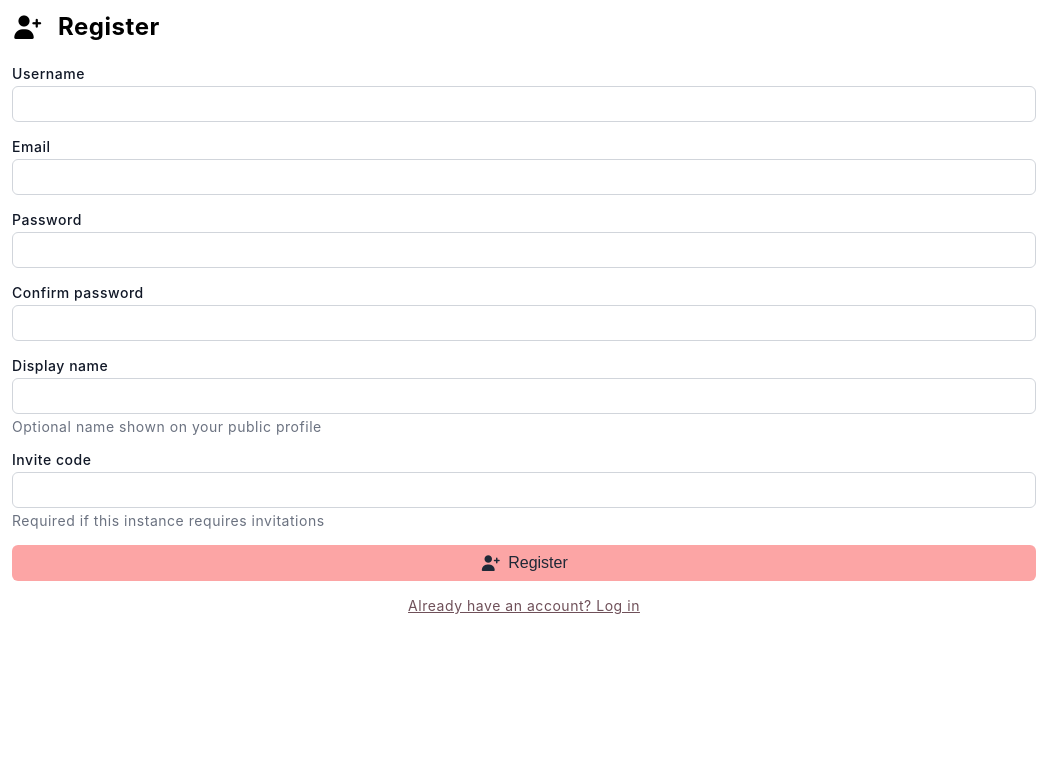
RegisterView › blocks submission when passwords do not match
Type "alice" into the field labelled "Username" at (524, 104), box [12,86,1036,122]
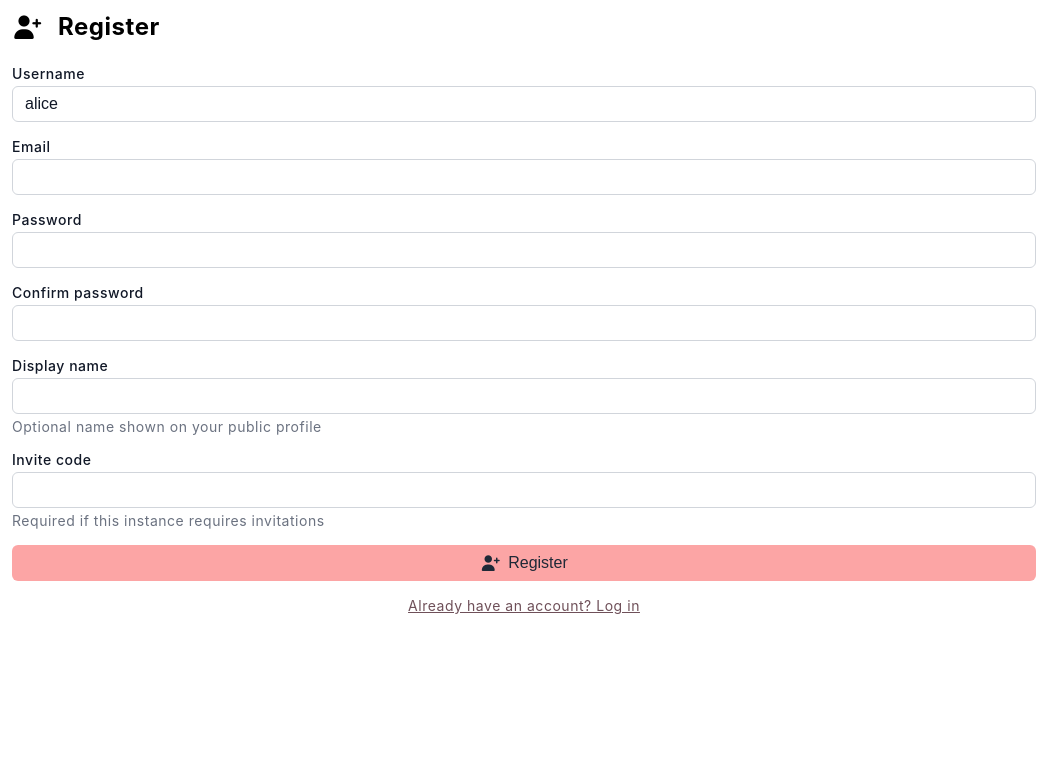
Type "alice@example.com" into the field labelled "Email" at (524, 177), box [12,159,1036,195]
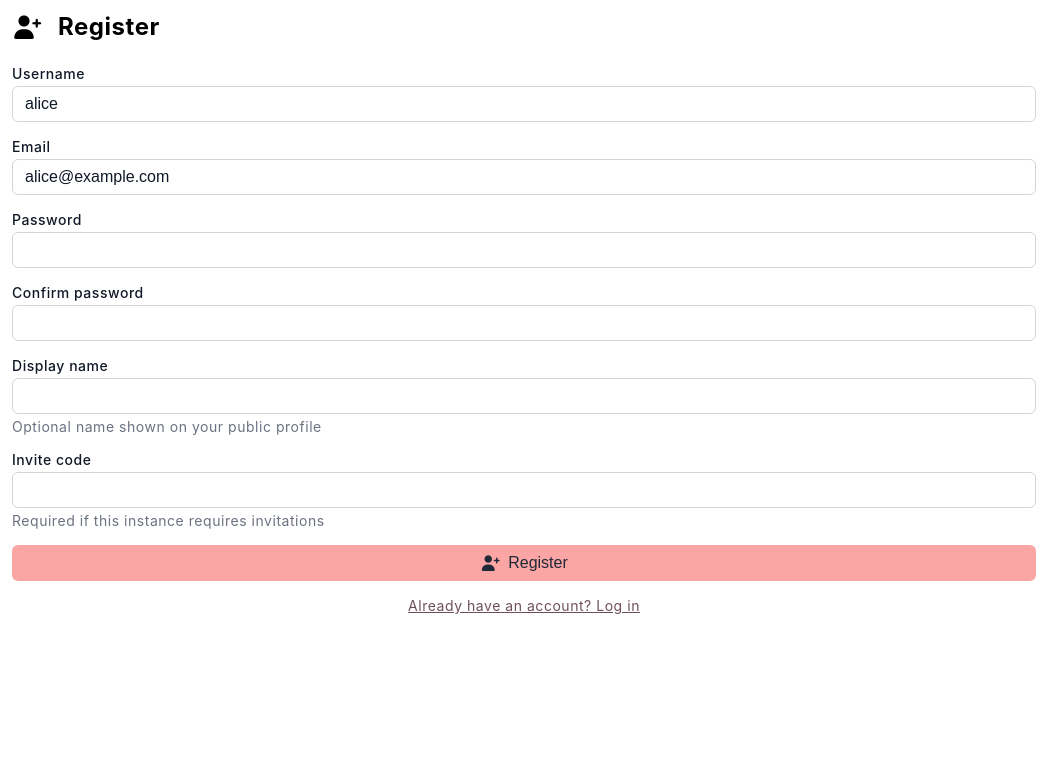
Type "secret" into the password field labelled "Password" at (524, 250), box [12,232,1036,268]
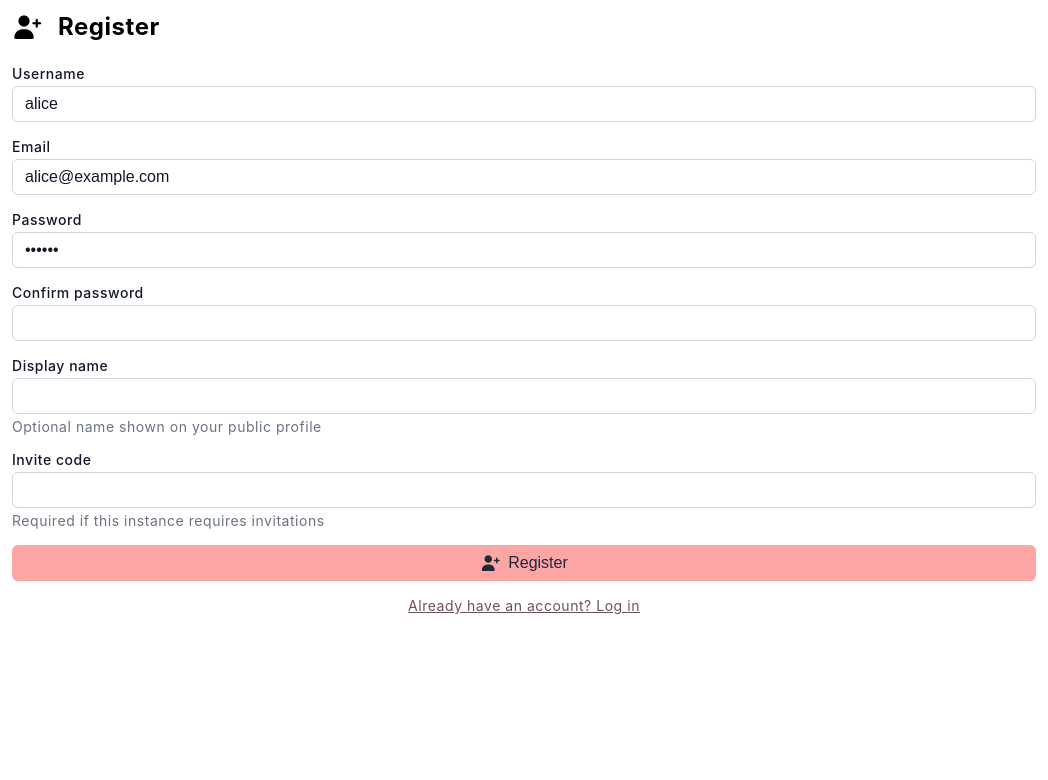
Type "other" into the password field labelled "Confirm password" at (524, 323), box [12,305,1036,341]
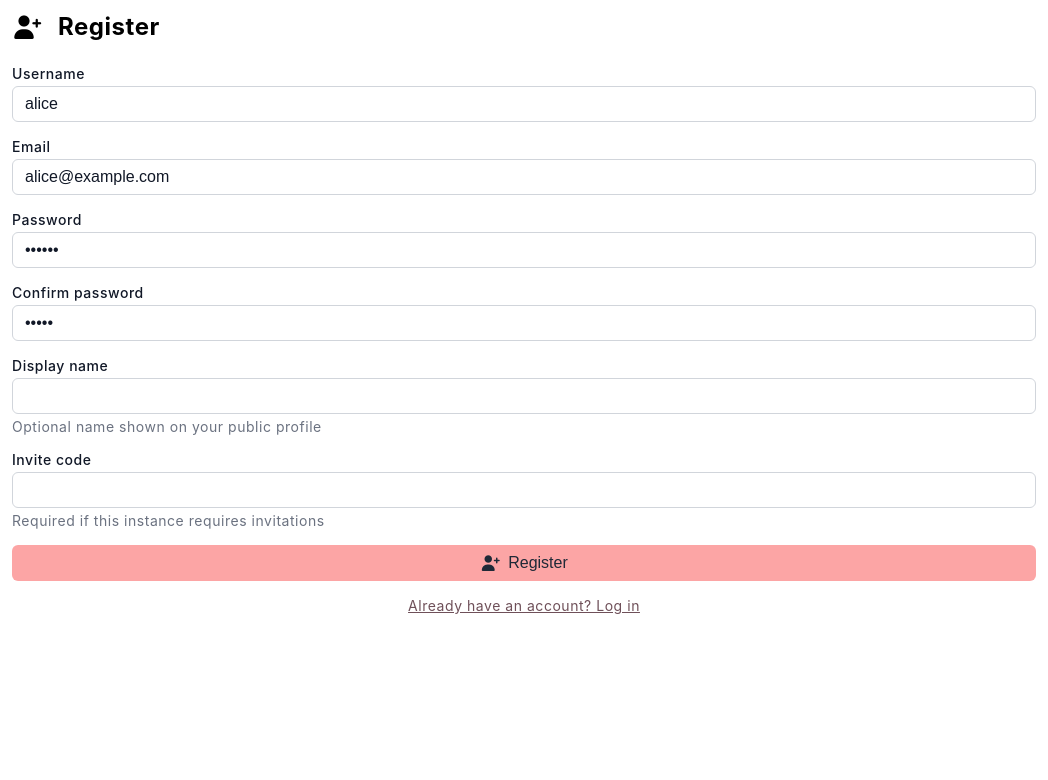
Submit the form
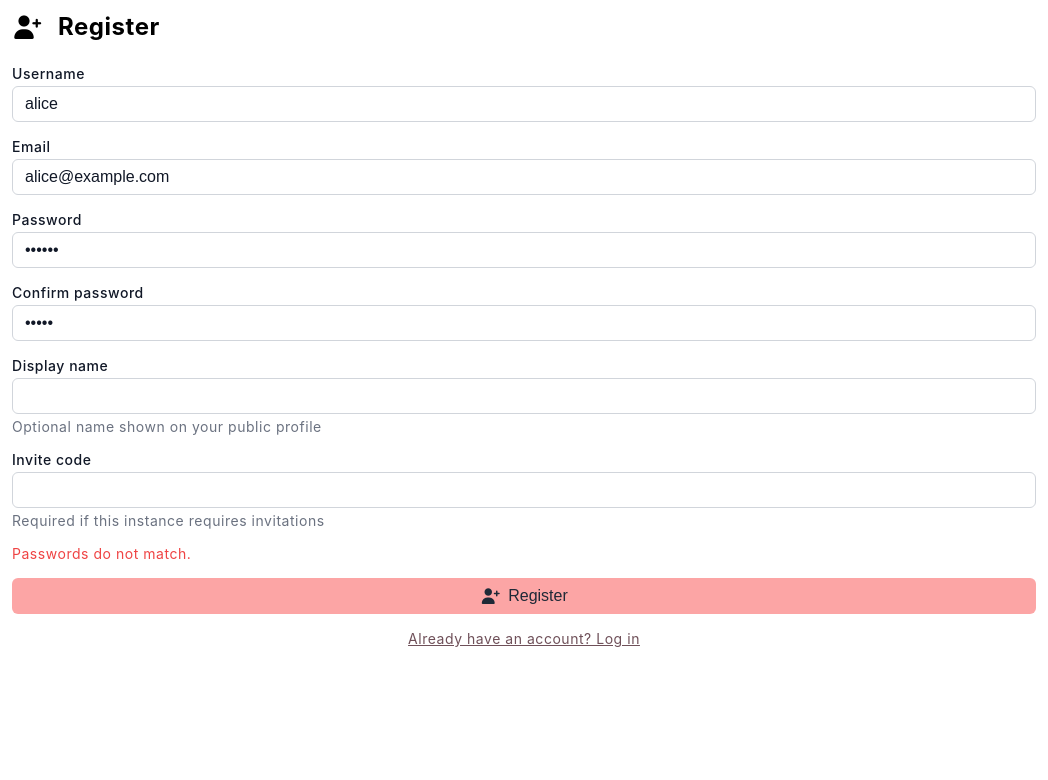
Check: the form shows "Passwords do not match.", box [12,545,191,562]
